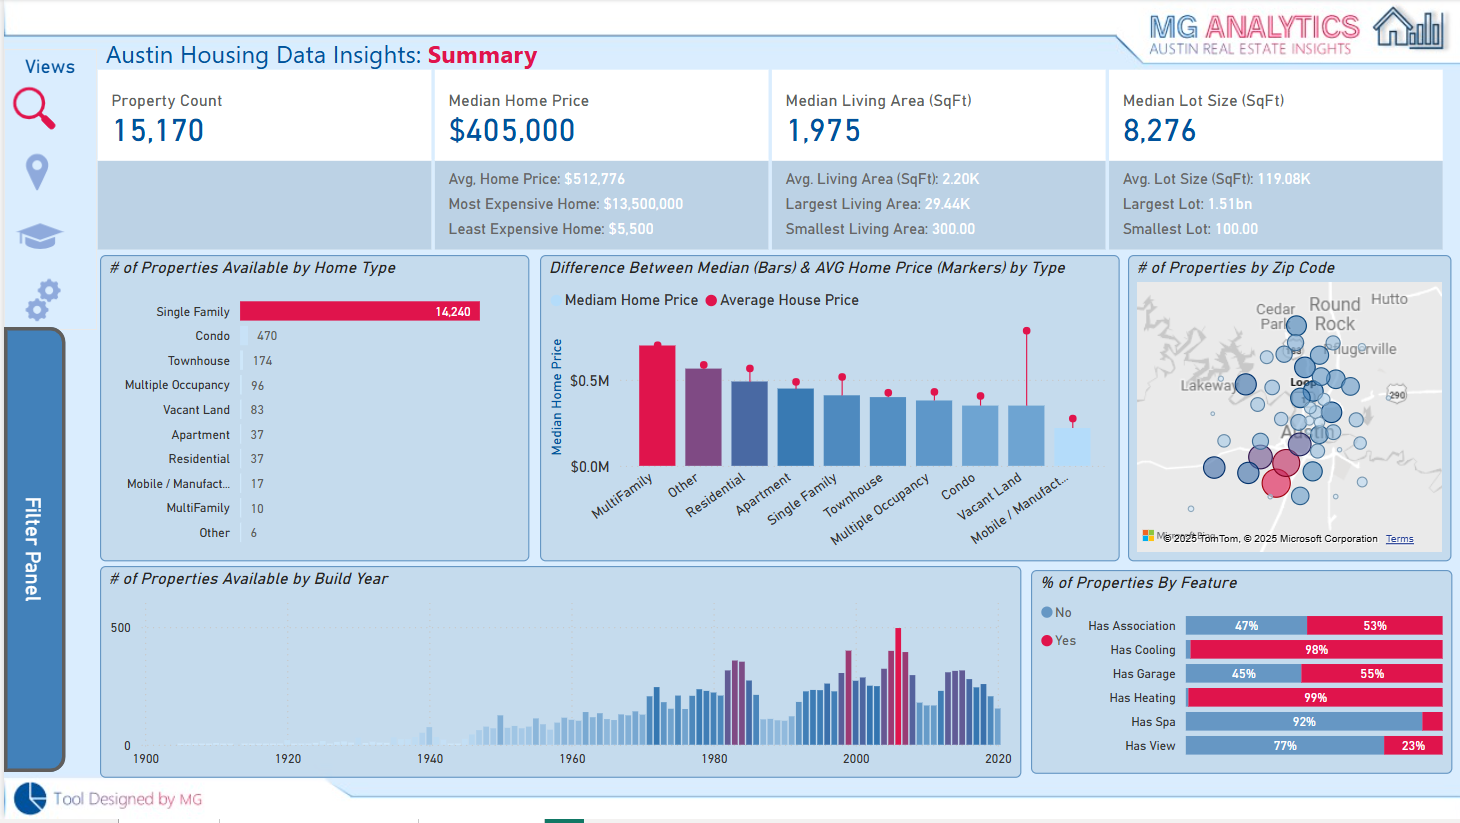

Layout of this report page (visuals, bound fields, positions):
{"tool":"powerbi","page":{"name":"Summary Insights","canvas":[1280,720],"ordinal":1},"visuals":[{"type":"cardVisual","fields":{"Data":["_measures.Property Count","Median(housing_fact.latestPrice)","Median(housing_fact.livingAreaSqFt)","Median(housing_fact.lotSizeSqFt)"]},"box":[171.5,107.5,1108.5,181.3],"z":0},{"type":"clusteredBarChart","title":"# of Properties Available by Home Type","fields":{"Category":["house.homeType"],"Y":["_measures.Property Count"]},"box":[171.5,288.8,410.4,235.6],"z":1000},{"type":"lineStackedColumnComboChart","title":"Difference Between Median & AVG Home Price by Type","fields":{"Category":["house.homeType"],"Y":["_measures.Mediam Home Price"],"Y2":["_measures.Average House Price"]},"box":[581.9,288.8,410.4,235.6],"z":2000},{"type":"map","title":"# of Properties by Zip Code","fields":{"Size":["_measures.Property Count"],"Category":["location.zipcode"]},"box":[980.4,288.8,299.6,235.6],"z":3000},{"type":"columnChart","title":"# of Properties Available by Build Year","fields":{"Category":["housing_fact.yearBuilt"],"Y":["_measures.Property Count"]},"box":[171.1,524.4,808.9,195.6],"z":4000},{"type":"hundredPercentStackedBarChart","title":"% of Properties By Feature","fields":{"Category":["features_pivot.Attribute"],"Y":["_measures.Property Count"],"Series":["features_pivot.Value"]},"box":[980,524.4,300,195.6],"z":5000}]}

Visuals, with their boxes on the page's 1280x720 design canvas (x1, y1, x2, y2). These are canvas units, not pixel positions in the 1460x823 screenshot, which may show the page scaled, cropped or inside an application window:
cardVisual - _measures.Property Count x Median(housing_fact.latestPrice): (172,108,1280,289)
"# of Properties Available by Home Type" clusteredBarChart: (172,289,582,524)
"Difference Between Median & AVG Home Price by Type" lineStackedColumnComboChart: (582,289,992,524)
"# of Properties by Zip Code" map: (980,289,1280,524)
"# of Properties Available by Build Year" columnChart: (171,524,980,720)
"% of Properties By Feature" hundredPercentStackedBarChart: (980,524,1280,720)
